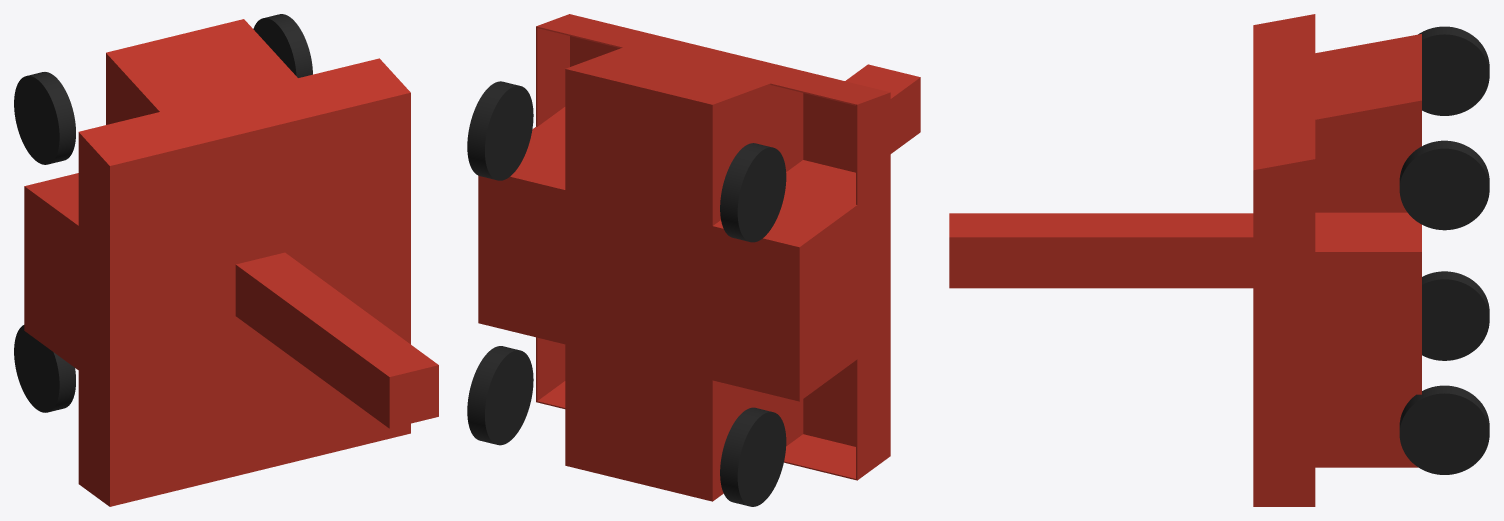
File: 2025AutoNavBot.fbx
The picture shows the model from 3 angles, left to right: view 1: azimuth 30°, elevation 25°; view 2: azimuth 150°, elevation 25°; view 3: azimuth 270°, elevation 25°; orthographic projection. The views are drawn at different scales.
Parts seen in each view (by area): view 1: Body1 (×4), Body13, Body2, Body12, Body3; view 2: Body1 (×5), Body2, Body13, Body12, Body3; view 3: Body1 (×5), Body12, Body3, Body13.
Part boxes in pixels (x1,y1,x2,y2): Body1 (×4): (14,14,438,486); Body13: (78,112,191,248); Body2: (78,371,191,506); Body12: (298,58,410,194); Body3: (329,320,410,453); Body1 (×5): (467,35,920,506); Body2: (784,335,890,480); Body13: (770,71,890,204); Body12: (536,14,655,126); Body3: (536,337,565,408); Body1 (×5): (949,26,1489,474); Body12: (1253,120,1315,251); Body3: (1253,394,1315,506); Body13: (1253,14,1315,64).
Size of the model in its own units: 30.5 by 36 by 48.
